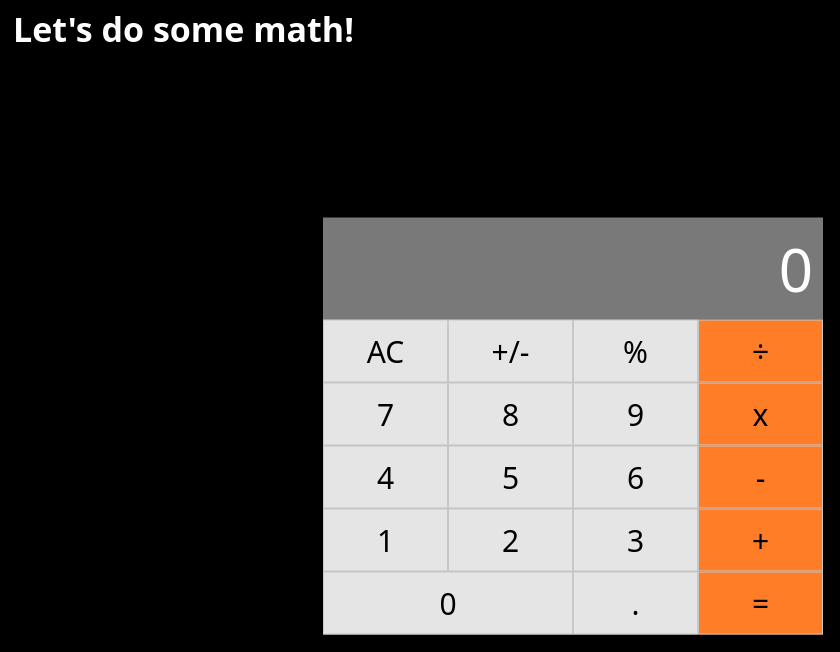
Scenario: Calculator tests › simulate the user interaction with the calculator: 10
Click the button "5". click: (510,477)
box: left=448, top=446, right=573, bottom=508
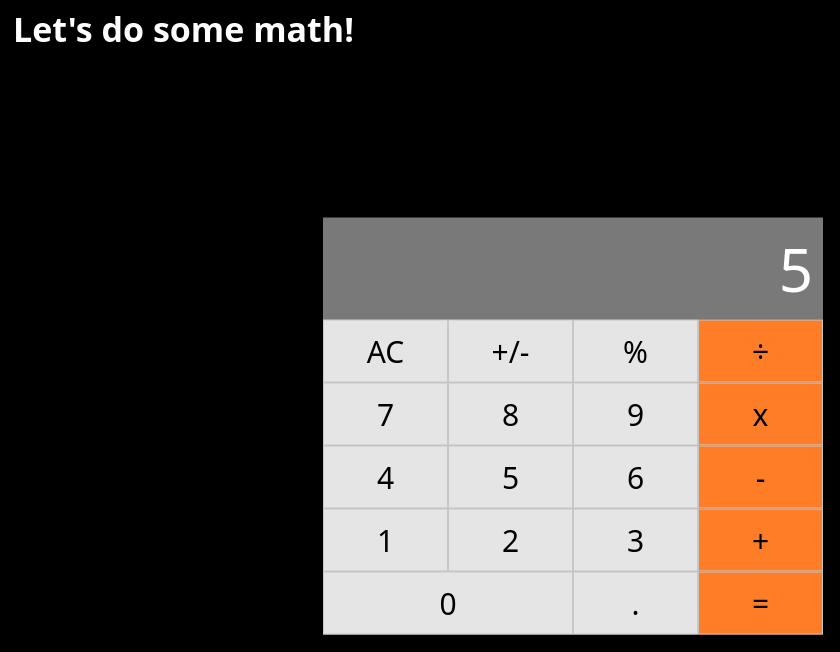
Click the button "x". click: (760,414)
box: left=698, top=382, right=823, bottom=446
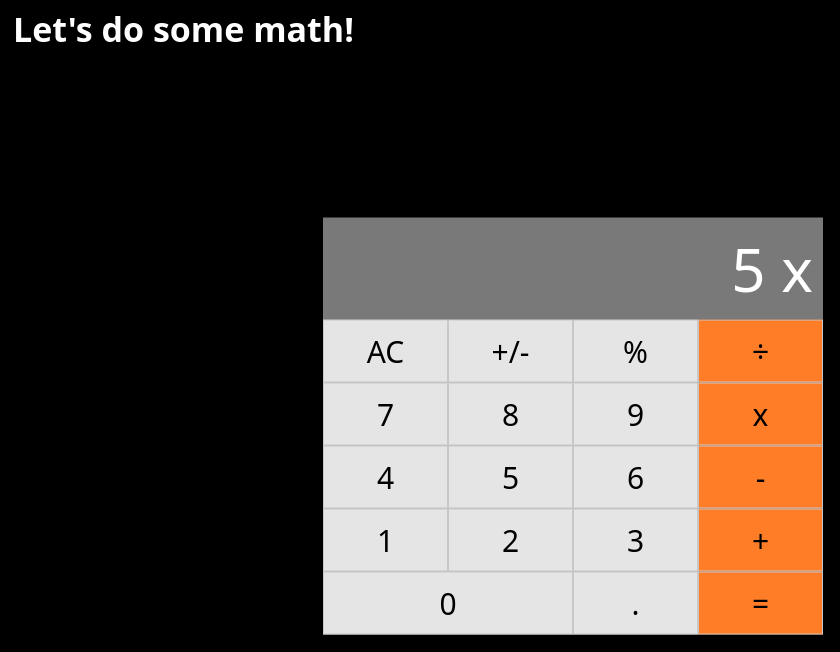
Click the button "2". click: (510,540)
box: left=448, top=508, right=573, bottom=572
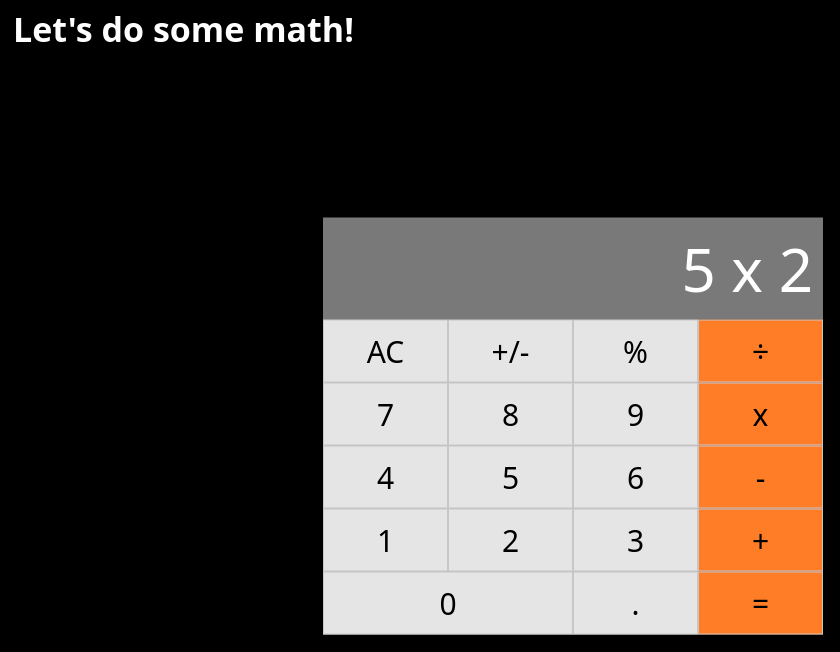
Click the button "=". click: (760,603)
box: left=698, top=572, right=823, bottom=634
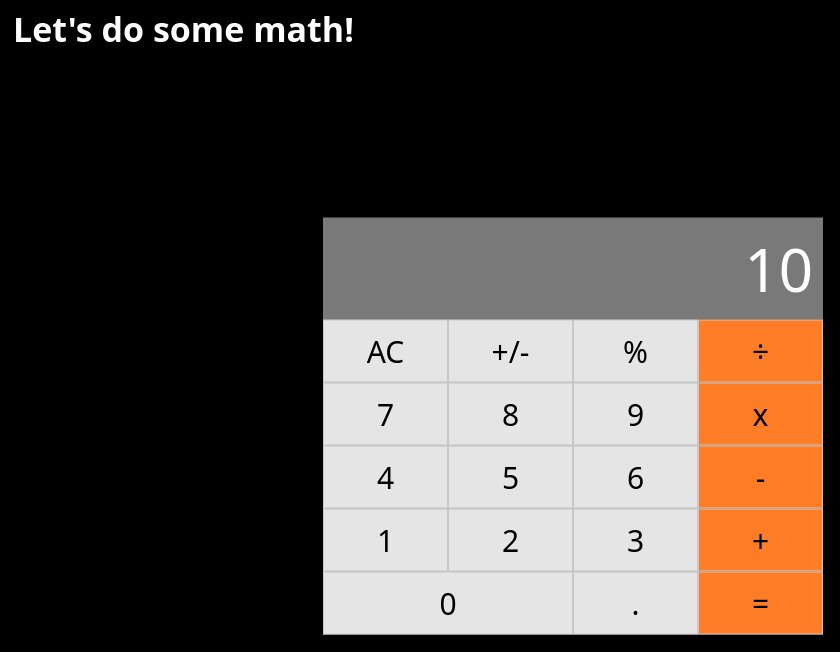
Expected: the text "10" is shown, left=323, top=218, right=823, bottom=320
